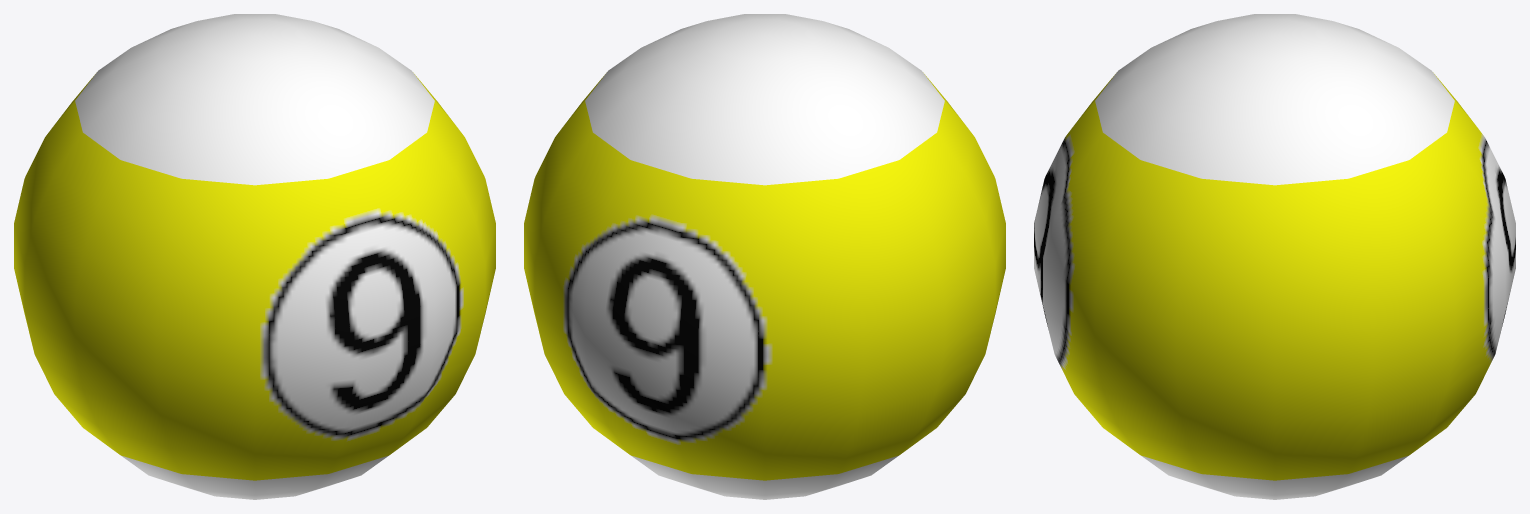
File: Ball.fbx
3 renders of one model, left to right at view 1: azimuth 30°, elevation 25°; view 2: azimuth 150°, elevation 25°; view 3: azimuth 270°, elevation 25°, orthographic.
Parts seen in each view (by area): view 1: pSphere1; view 2: pSphere1; view 3: pSphere1.
Boxes of the visible parts, box(x1,y1,x2,y2) form: pSphere1: box(14, 14, 495, 499); pSphere1: box(524, 14, 1005, 499); pSphere1: box(1034, 14, 1515, 499).
Bounding box in the file's own units: 5.74 × 5.83 × 5.77.
Materials: 1 (1 with a texture image).
